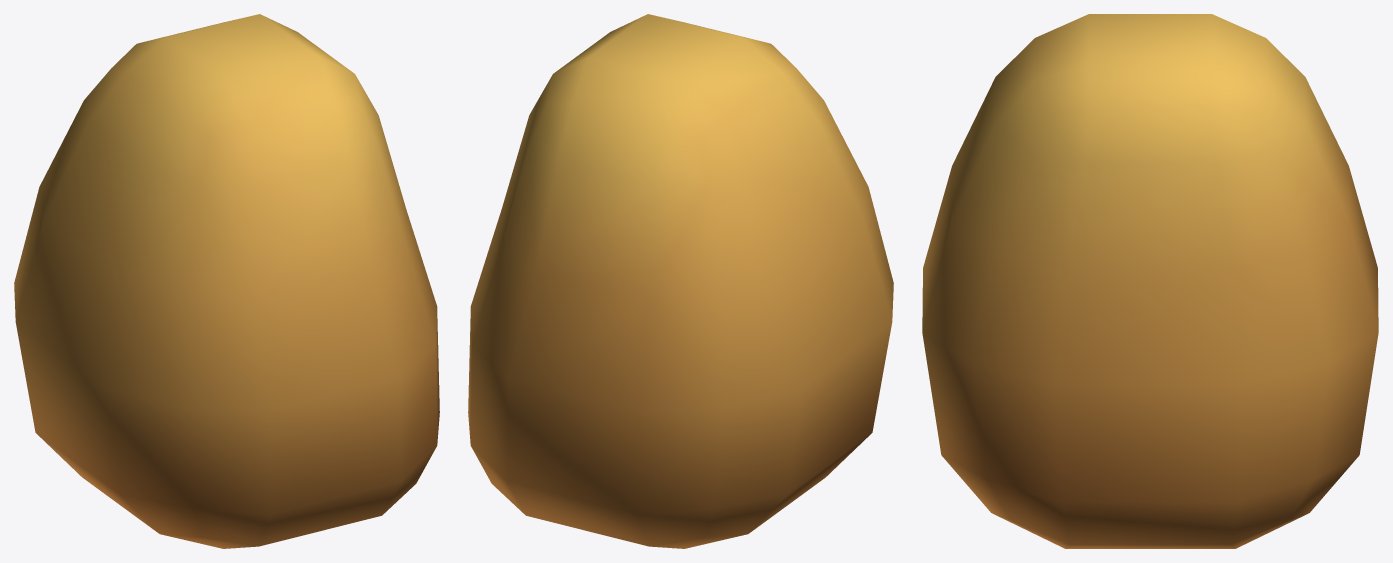
File: kay-food_ingredient_potato.glb
The picture shows the model from 3 angles, left to right: view 1: azimuth 30°, elevation 25°; view 2: azimuth 150°, elevation 25°; view 3: azimuth 270°, elevation 25°; orthographic projection. The views are drawn at different scales.
Parts seen in each view (by area): view 1: food_ingredient_potato; view 2: food_ingredient_potato; view 3: food_ingredient_potato.
Boxes of the visible parts, box(x1,y1,x2,y2) form: food_ingredient_potato: box(14, 14, 439, 548); food_ingredient_potato: box(468, 14, 893, 548); food_ingredient_potato: box(922, 14, 1378, 548).
Size of the model in its own units: 0.1692 by 0.22 by 0.1918.
1 material, 1 textured.
